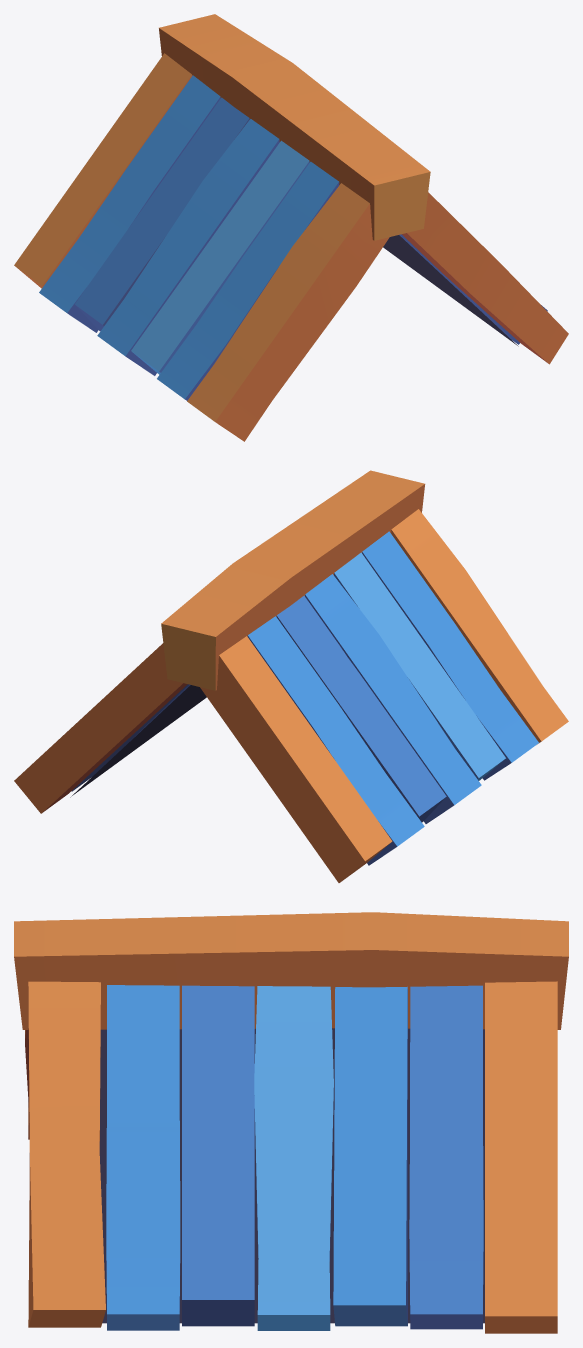
Rendered from Roof02_Blue_Wood.glb.
3 views of the same model, one above another, from view 1: azimuth 30°, elevation 25°; view 2: azimuth 150°, elevation 25°; view 3: azimuth 270°, elevation 25° (orthographic). The views are drawn at different scales.
Parts seen in each view (by area): view 1: Roof02_Blue_Wood; view 2: Roof02_Blue_Wood; view 3: Roof02_Blue_Wood.
Boxes of the visible parts, box(x1,y1,x2,y2) form: Roof02_Blue_Wood: box(14, 14, 568, 441); Roof02_Blue_Wood: box(14, 470, 568, 882); Roof02_Blue_Wood: box(14, 912, 568, 1333).
Bounding box in the file's own units: 2.41 × 1.49 × 2.46.
1 material, 1 textured.
